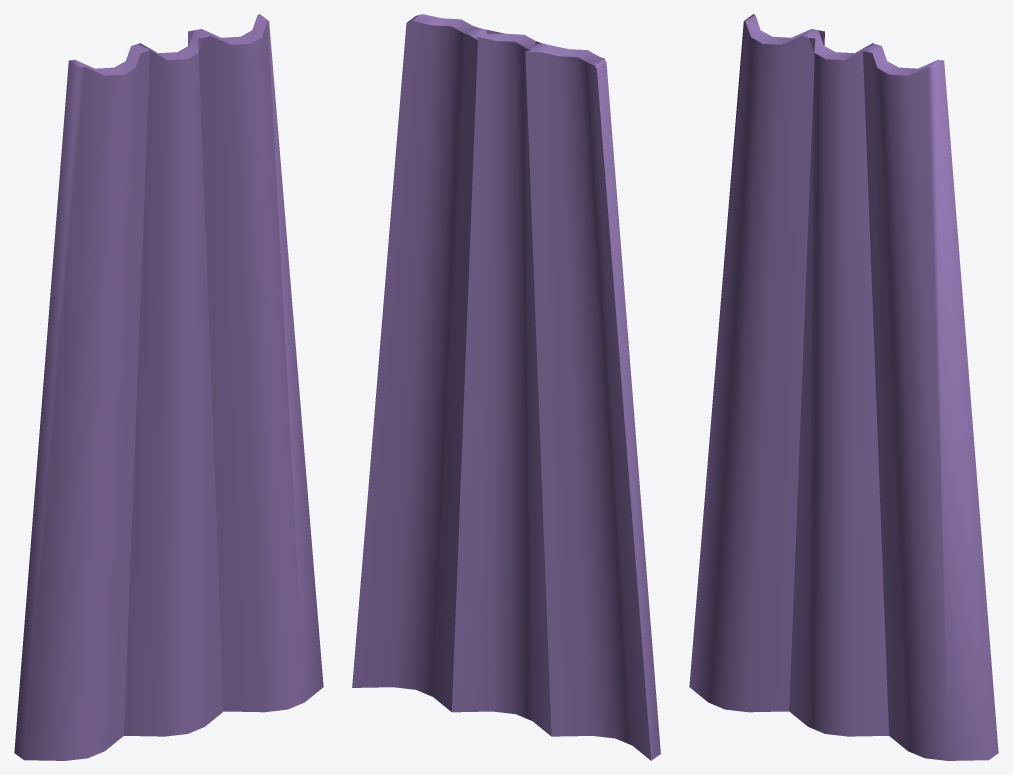
The model's file is Curtains (Purple).fbx.
The picture shows the model from 3 angles, left to right: view 1: azimuth 30°, elevation 25°; view 2: azimuth 150°, elevation 25°; view 3: azimuth 330°, elevation 25°; orthographic projection.
Parts seen in each view (by area): view 1: Curtains (Purple); view 2: Curtains (Purple); view 3: Curtains (Purple).
Part boxes in pixels (bbox=[...]): Curtains (Purple): bbox=[14, 14, 323, 760]; Curtains (Purple): bbox=[352, 14, 660, 760]; Curtains (Purple): bbox=[689, 14, 998, 760].
Bounding box in the file's own units: 132 × 287 × 18.19.
